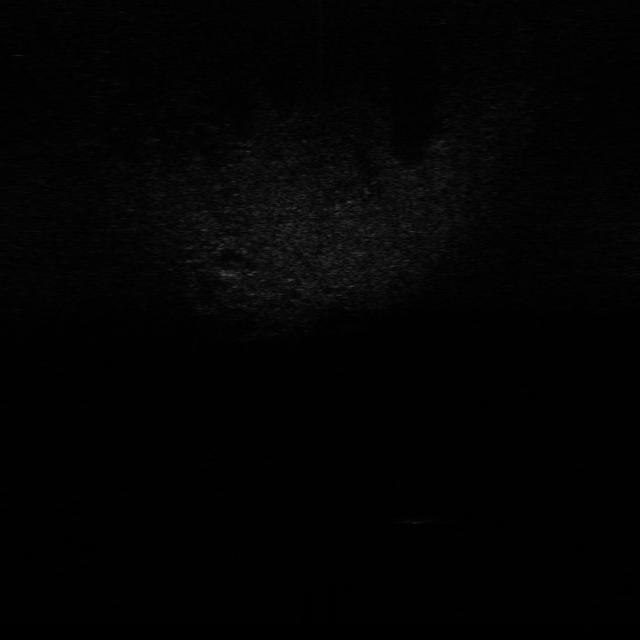ball: (396, 498, 430, 527)
cube: (189, 294, 223, 317)
